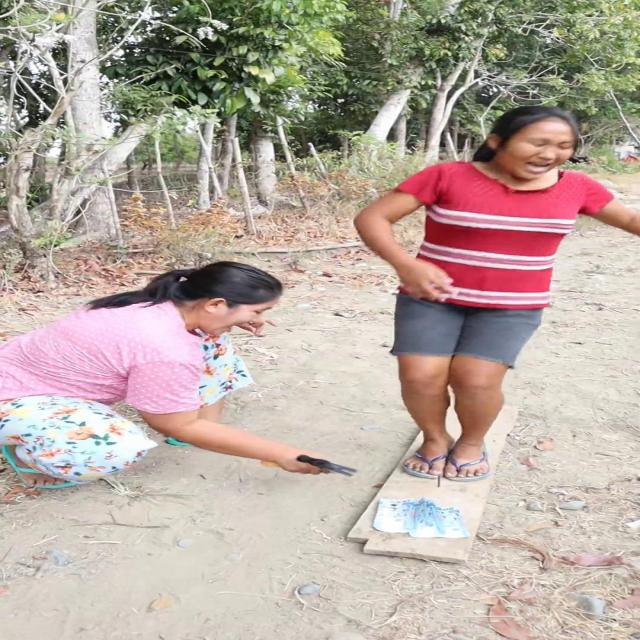hammer: (284, 452, 358, 485)
